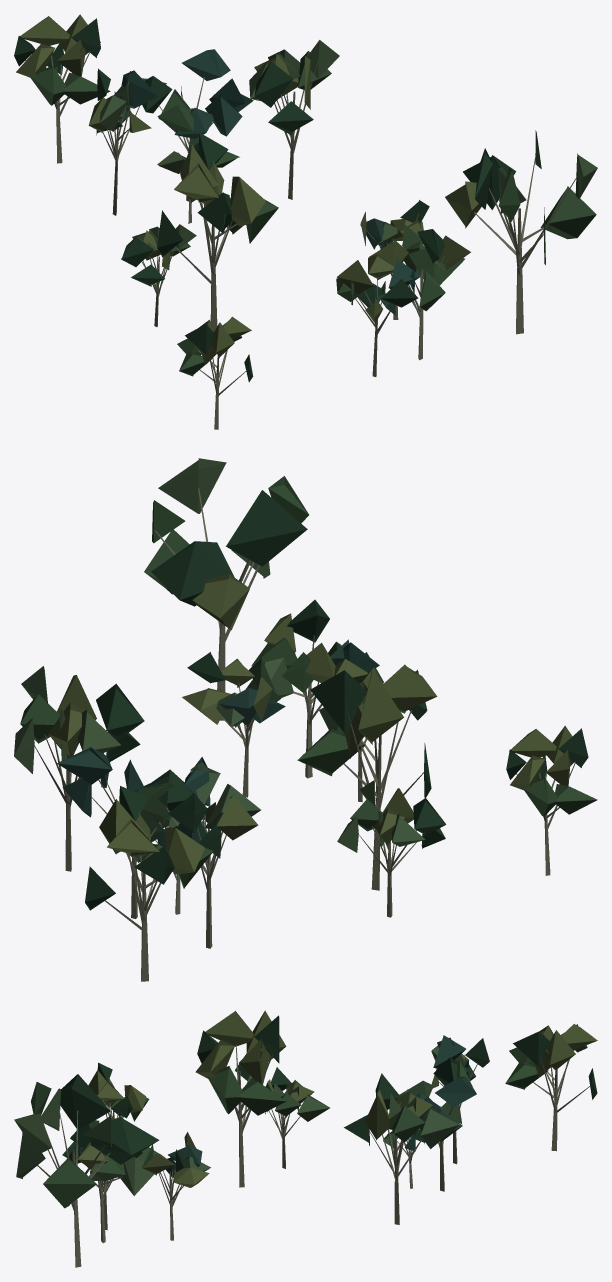
The model's file is forest_26_25.dae.
3 renders of one model, top to bottom at view 1: azimuth 30°, elevation 25°; view 2: azimuth 150°, elevation 25°; view 3: azimuth 270°, elevation 25°, orthographic. The views are drawn at different scales.
Visible parts, largest first — view 1: Node; view 2: Node; view 3: Node.
Boxes of the visible parts, x1,y1,x2,y2 form: Node: (14, 14, 597, 429); Node: (14, 458, 597, 981); Node: (14, 1010, 597, 1267).
Bounding box in the file's own units: 6.72 × 9.61 × 3.9.
